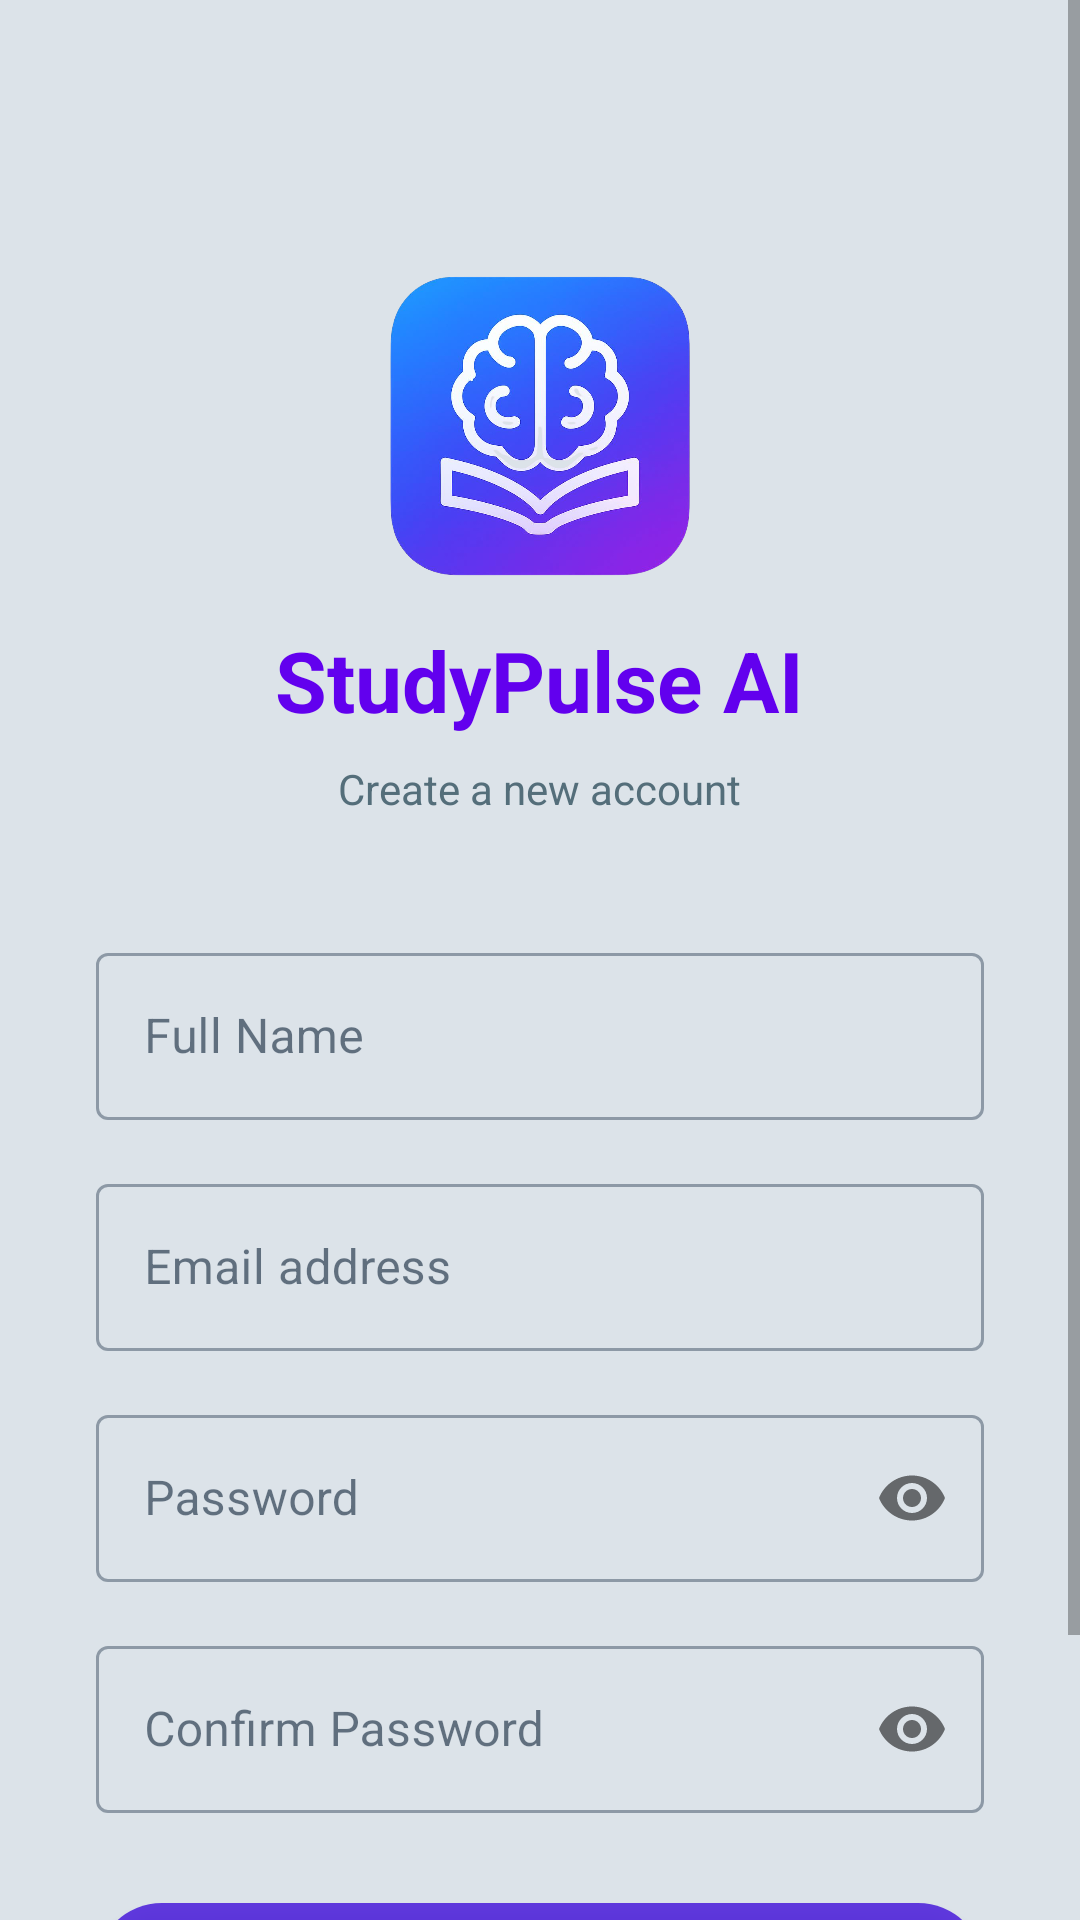

Point at icon controls on the screen. Image size 1080 × 1920, points as [x,y].
brain: [540,426]
